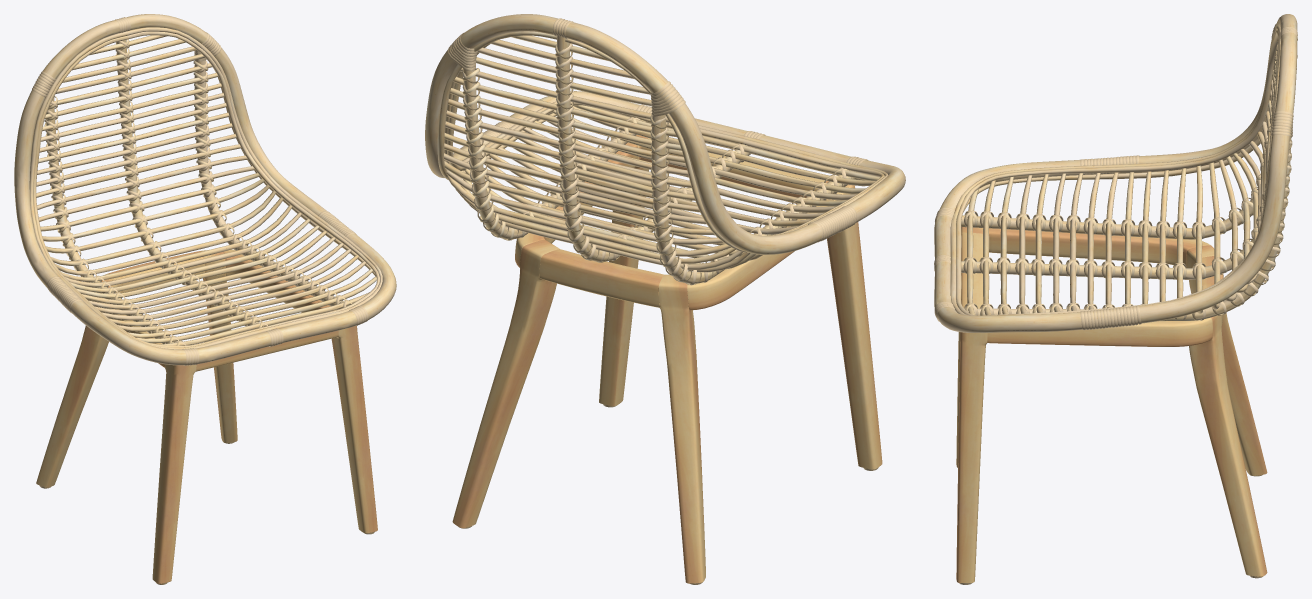
Rendered from chair.fbx.
The picture shows the model from 3 angles, left to right: view 1: azimuth 30°, elevation 25°; view 2: azimuth 150°, elevation 25°; view 3: azimuth 270°, elevation 25°; orthographic projection. The views are drawn at different scales.
Parts seen in each view (by area): view 1: Chair; view 2: Chair; view 3: Chair.
Boxes of the visible parts, x1,y1,x2,y2 form: Chair: (14, 14, 396, 584); Chair: (425, 14, 905, 584); Chair: (934, 14, 1297, 584).
Bounding box in the file's own units: 61.02 × 88.08 × 58.64.
